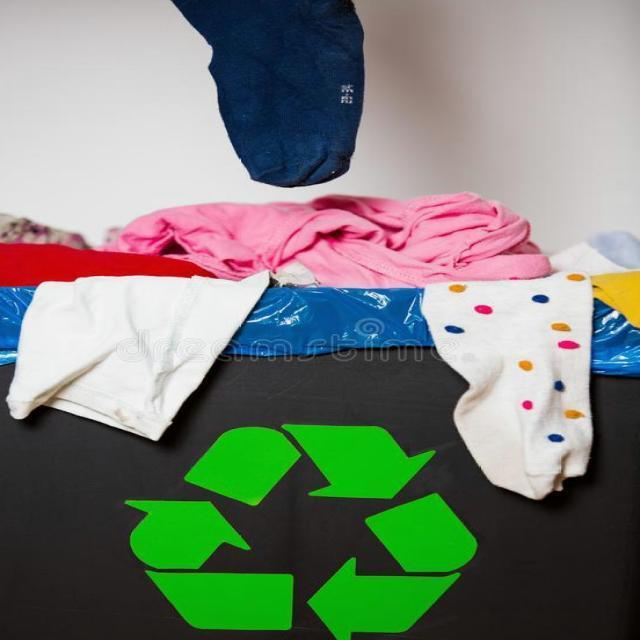clothes: (183, 13, 430, 288)
